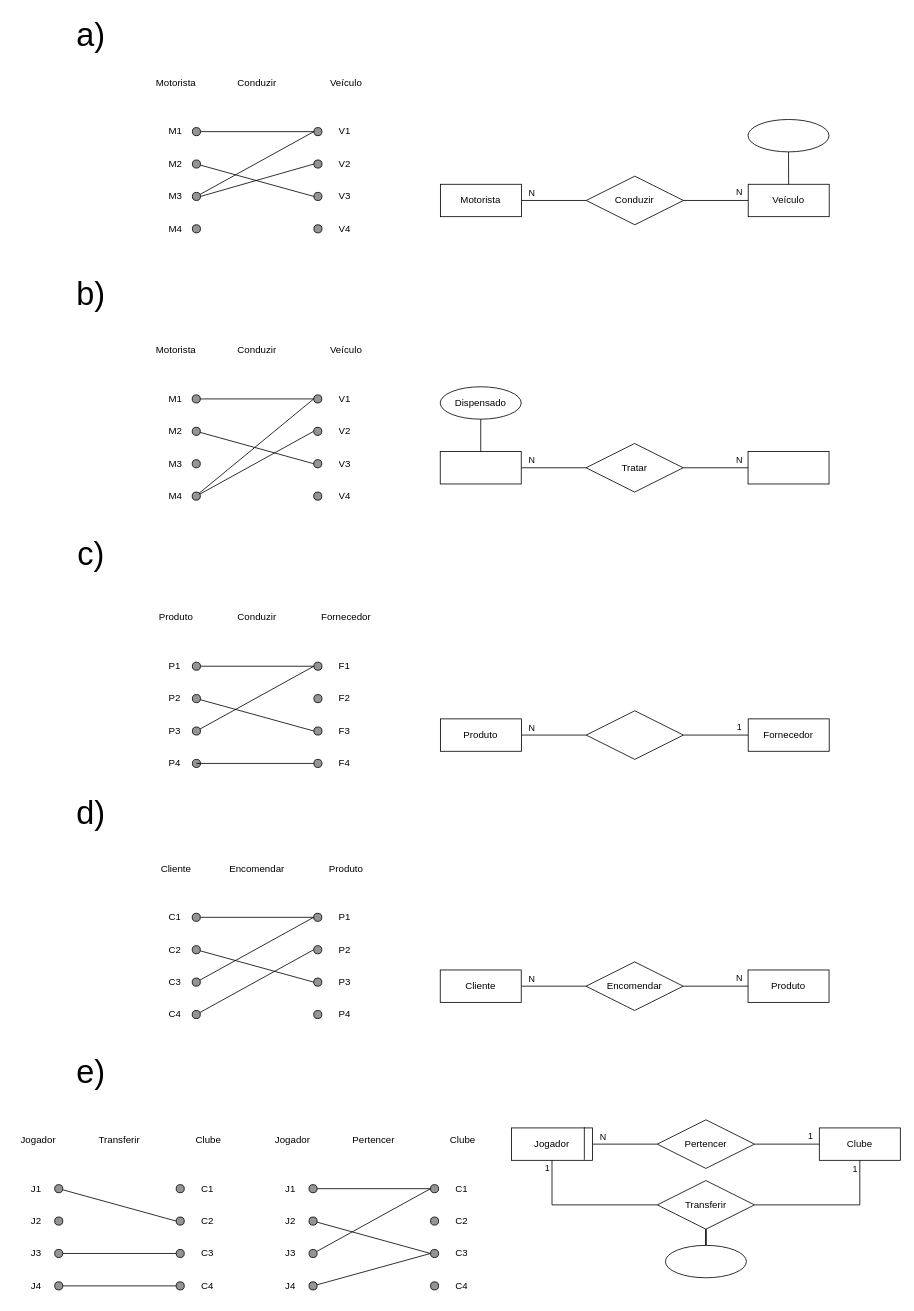
This 914x1311 diagram has some shape labels left out. The box of each missing label's shape, as (x1, y1, x2, y2) in pixels:
Data e Hora: (665, 1245, 746, 1278)
Doente: (747, 451, 829, 484)
Fora de Serviço: (747, 119, 829, 152)
Médico: (439, 451, 521, 484)
Pertence: (585, 710, 683, 759)
